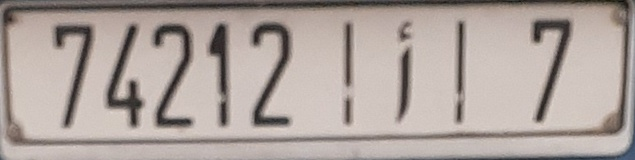1: (206, 20, 231, 130)
2: (248, 20, 294, 128), (152, 23, 198, 128)
4: (103, 21, 147, 131)
7: (50, 21, 96, 131), (528, 17, 573, 125)
a: (389, 20, 418, 124)
